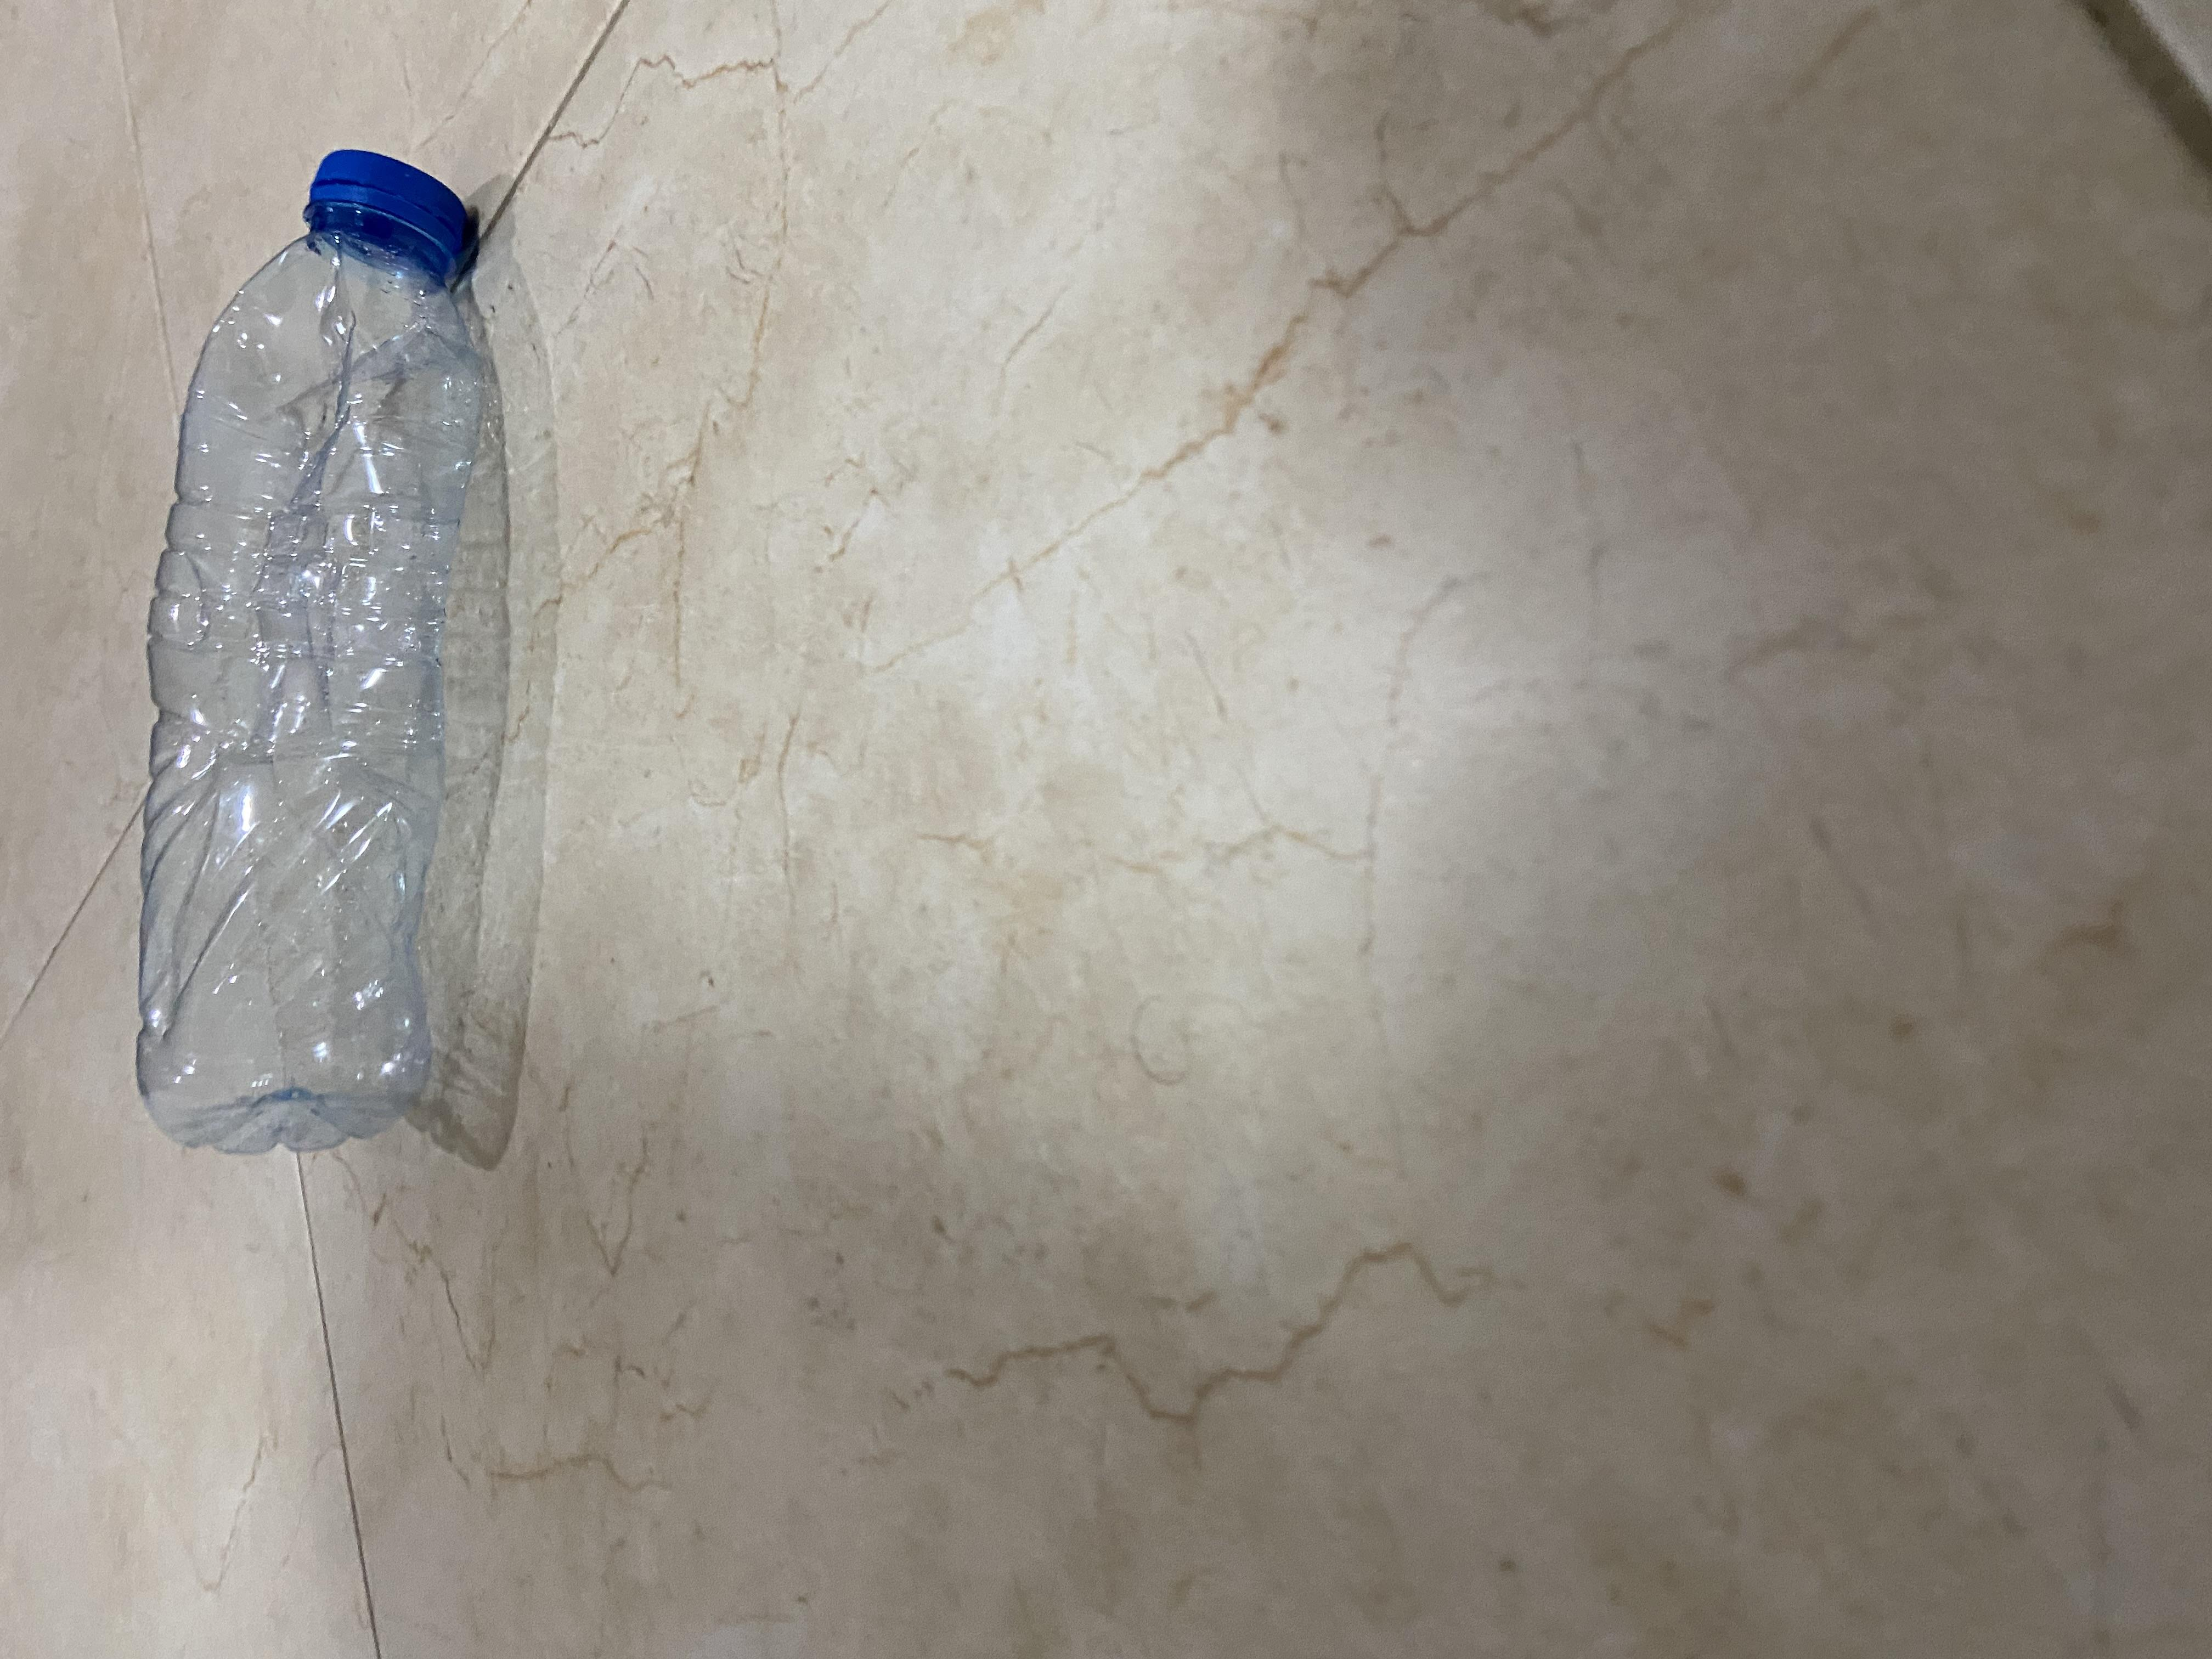bottle: (625, 75, 2040, 410)
